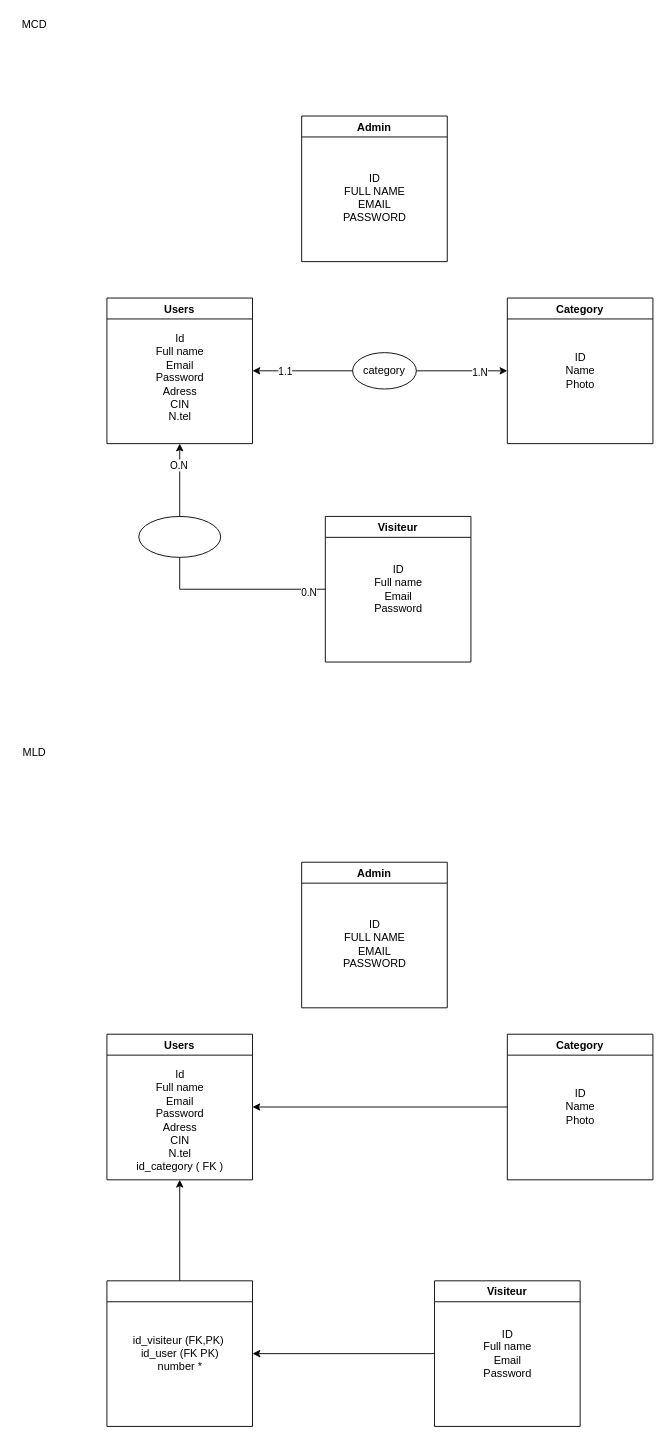
The diagram is 669 pixels wide and 1442 high, and some of its shapes have lost their labels. The box of each missing label's shape, as (x1, y1, x2, y2) in pixels:
Note: (138, 516, 221, 557)
Vote: (106, 1280, 253, 1426)
